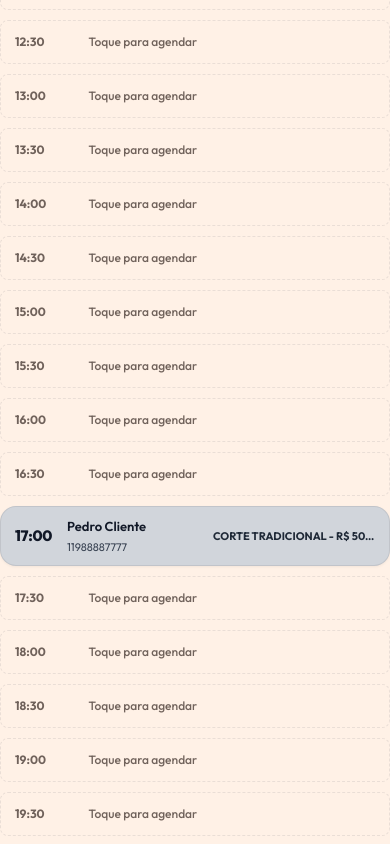
Minha Agenda do barbeiro › não oferece não compareceu antes do horário de início
(page scrolled)
Expected: the text "11988887777" is shown, [67,540,127,554]
Click the button titled "Toque para ver as ações do agendamento" at point(33, 536), box [0,506,389,566]
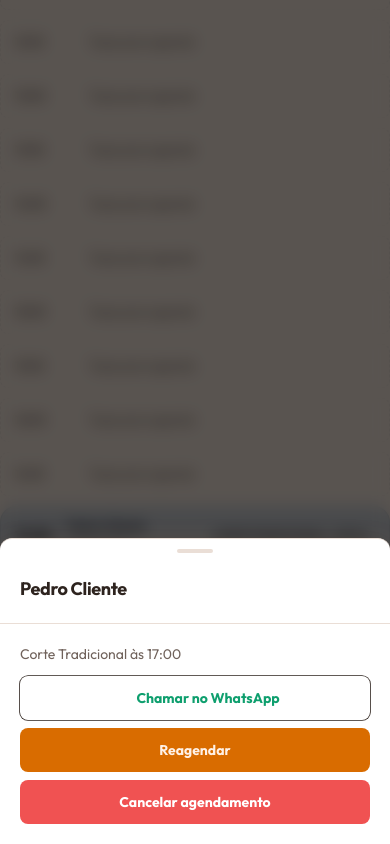
Expected: the button "Reagendar" is shown, [20,728,370,772]
